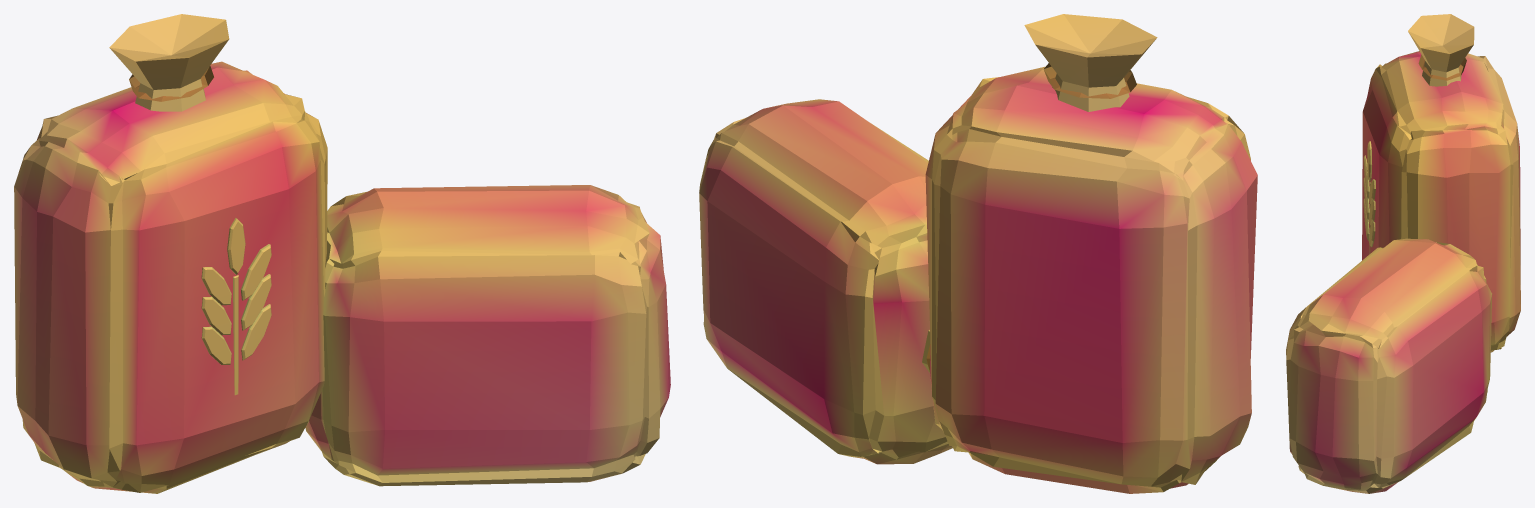
File: Farm_GrainSacks.glb
3 views of the same model, side by side, from view 1: azimuth 30°, elevation 25°; view 2: azimuth 150°, elevation 25°; view 3: azimuth 270°, elevation 25° (orthographic). The views are drawn at different scales.
Visible parts, largest first — view 1: Farm_GrainSacks; view 2: Farm_GrainSacks; view 3: Farm_GrainSacks.
Boxes of the visible parts, box(x1,y1,x2,y2) form: Farm_GrainSacks: box(14, 14, 670, 493); Farm_GrainSacks: box(699, 14, 1257, 493); Farm_GrainSacks: box(1286, 14, 1520, 493).
Size of the model in its own units: 1.04 by 0.8214 by 0.5232.
